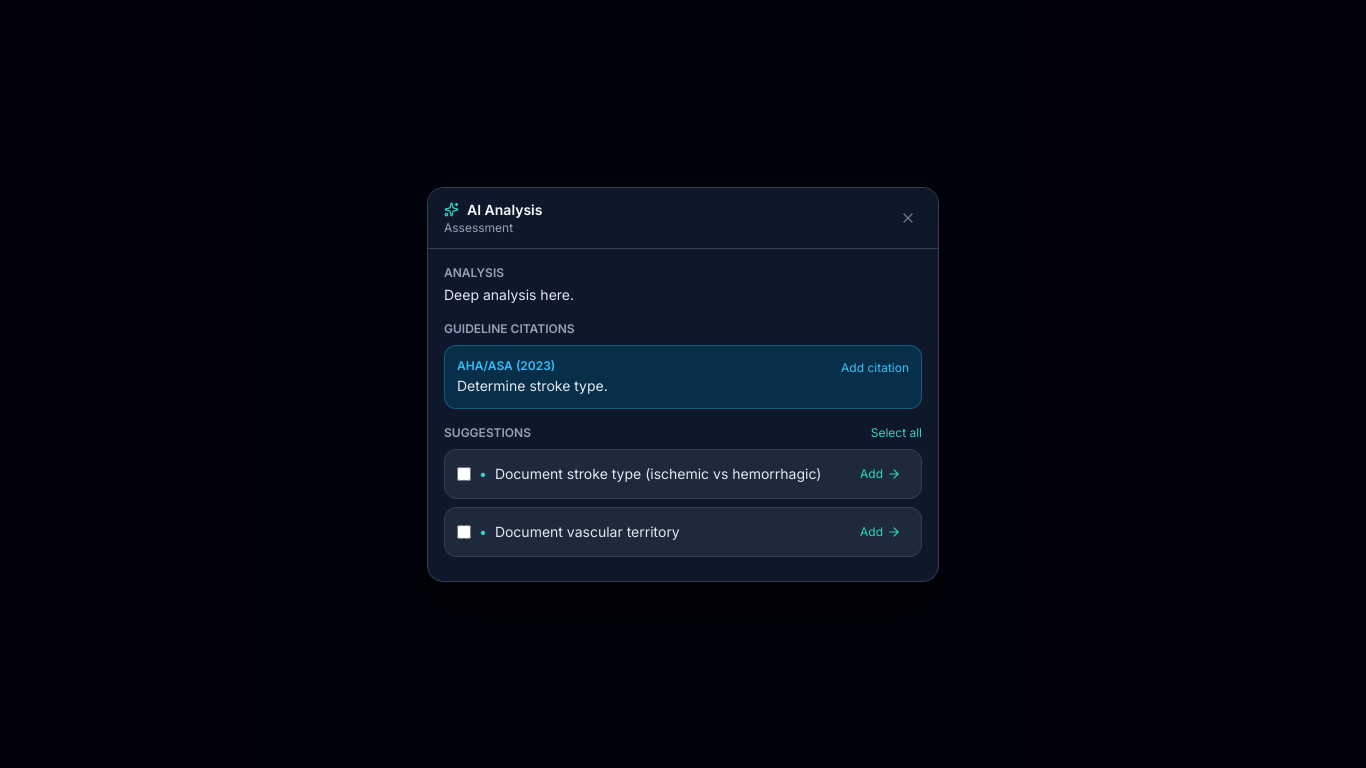
Test: FocusedAIPanel › cancel mid-batch clears remaining queue
The width and height of the screenshot is (1366, 768).
What coordinates should you click on to do the following:
click the button "Select all"
I would click on:
 (896, 432)
Its box is [871,424,922,440].
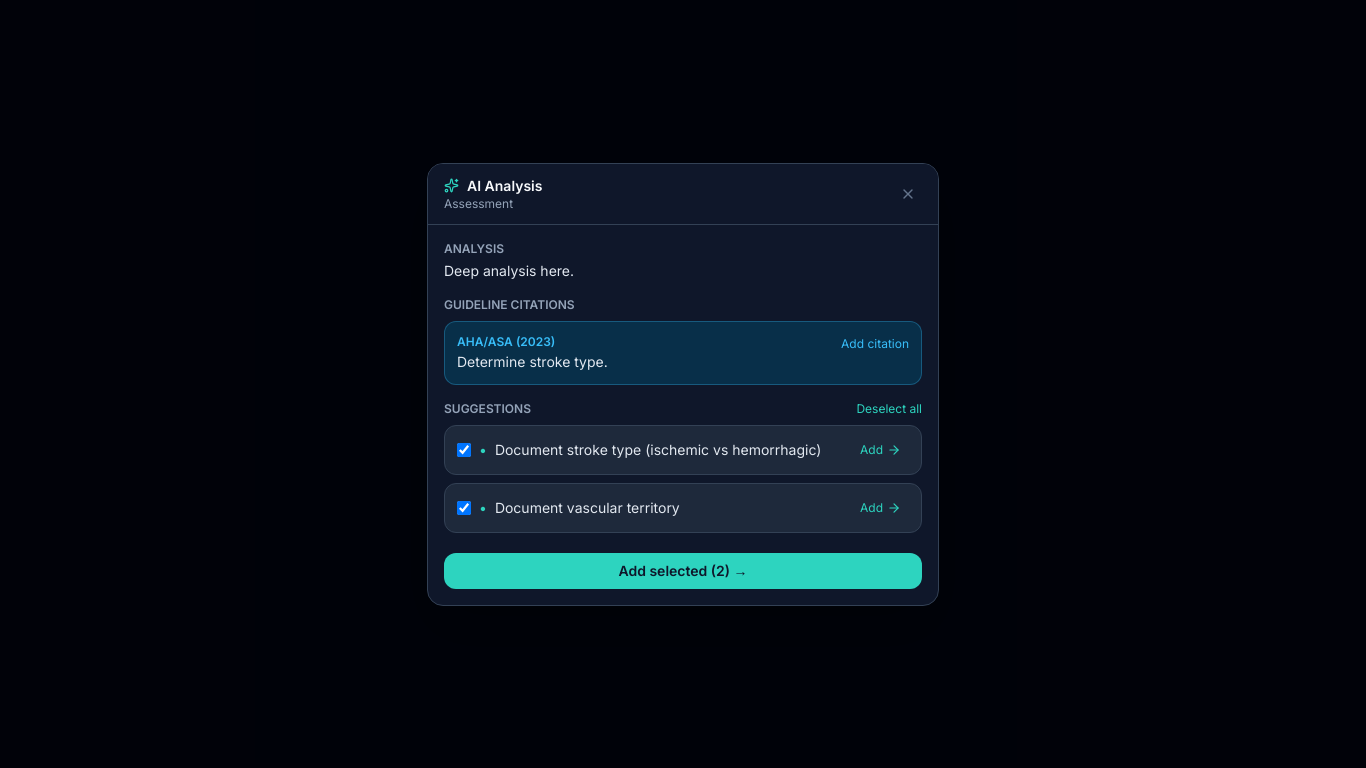
What coordinates should you click on to do the following:
click the button "Add selected (2) →"
I would click on:
 (683, 570)
Its box is [444,552,922,588].
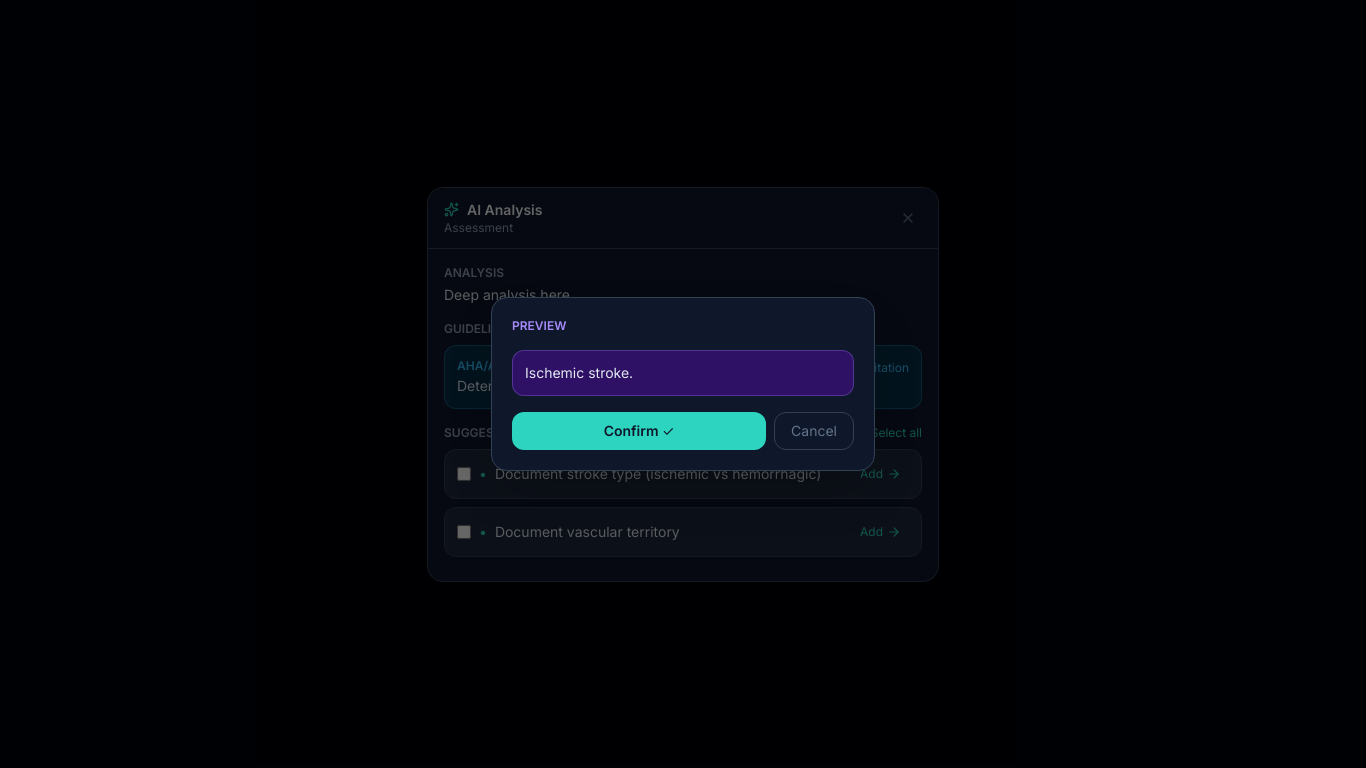
expect the button "Confirm ✓" is shown: met, box [512,412,766,450]
Cancel during preview of first item
What coordinates should you click on to do the following:
click the button "Cancel"
I would click on:
 (814, 431)
Its box is [774,412,854,450].
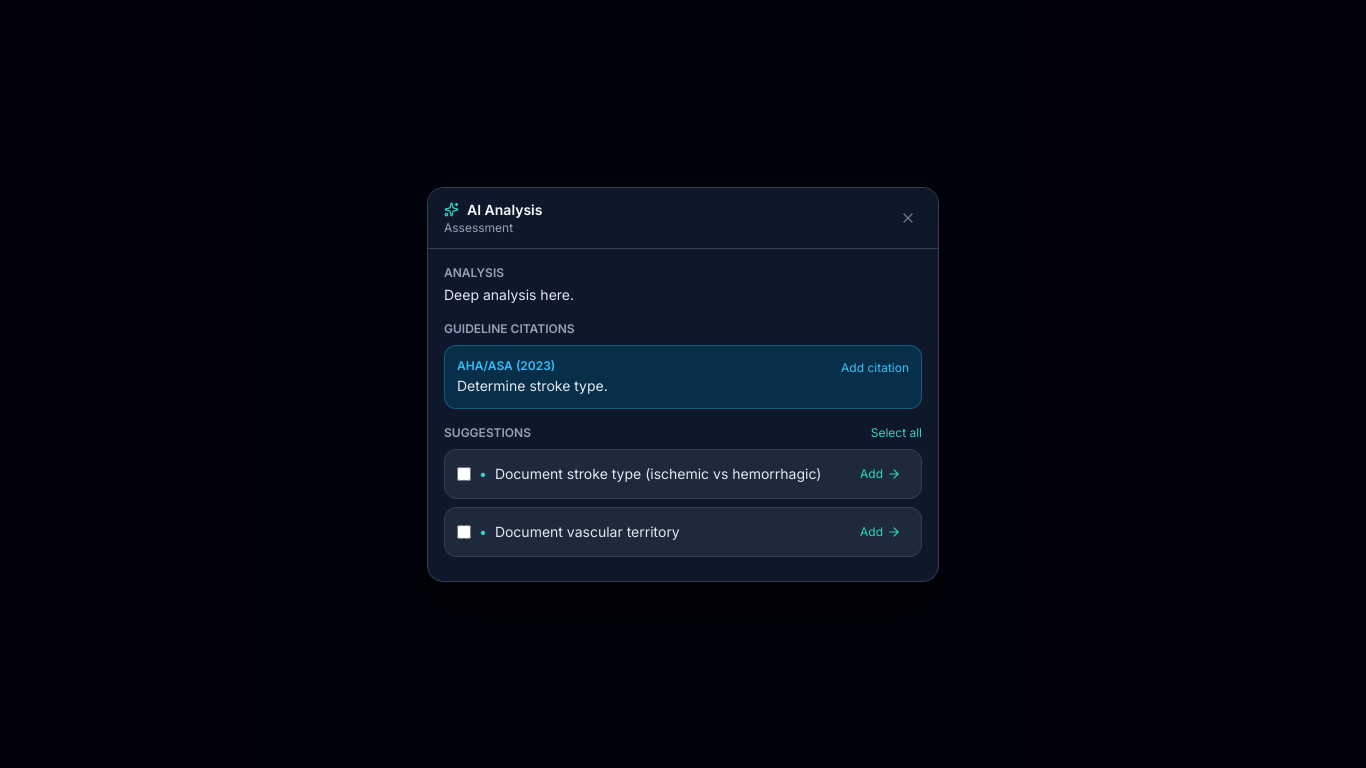
expect the button "Confirm" is gone: met
